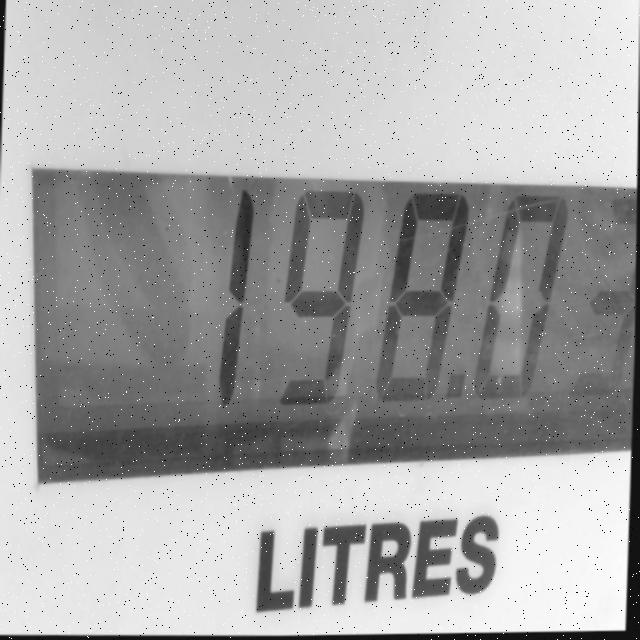.: (445, 368, 468, 403)
0: (473, 194, 561, 405)
1: (222, 180, 258, 409)
3: (571, 192, 638, 446)
8: (378, 199, 459, 400)
9: (284, 187, 360, 399)
